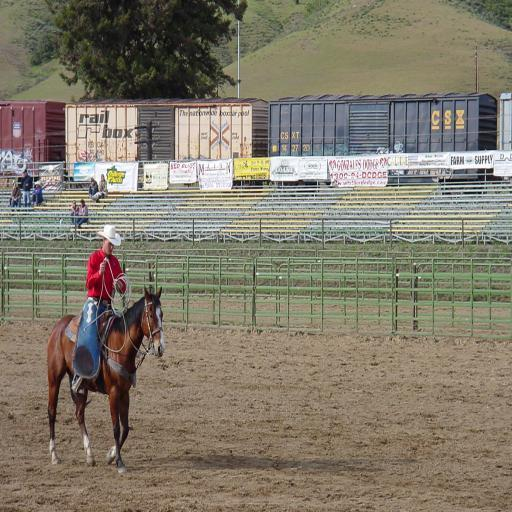horse: (47, 287, 166, 478)
